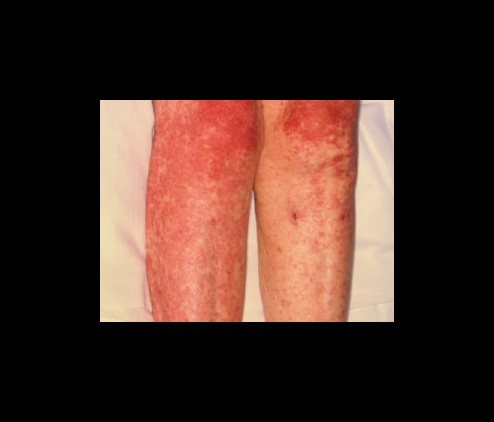SJS-TEN: (142, 98, 265, 323), (274, 93, 363, 254)
